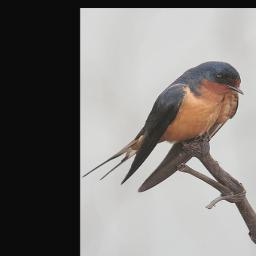Swallow: (84, 60, 245, 192)
